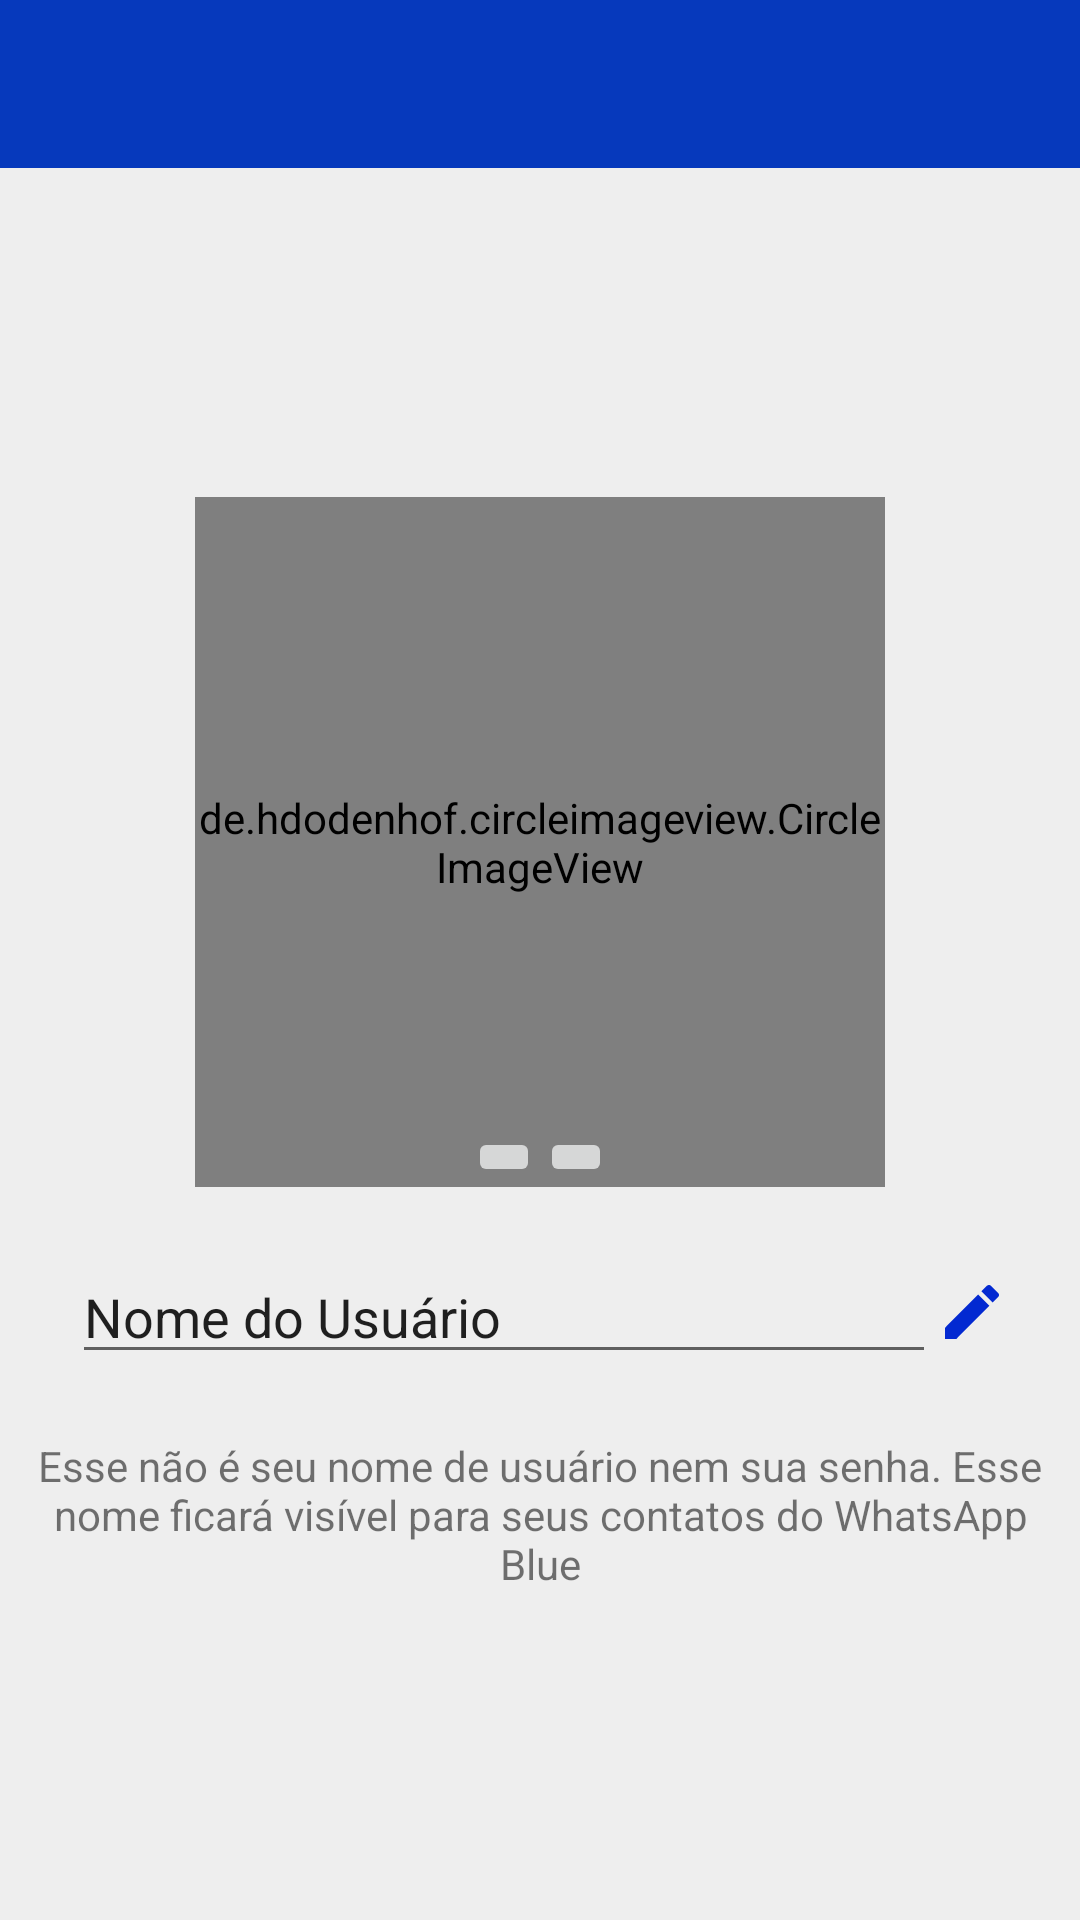

Icon bounding boxes for this 1080px x 1920px phone screenshot, format bbox=[x1, y1, x2, y2]:
edit: bbox=[945, 1285, 999, 1339]
